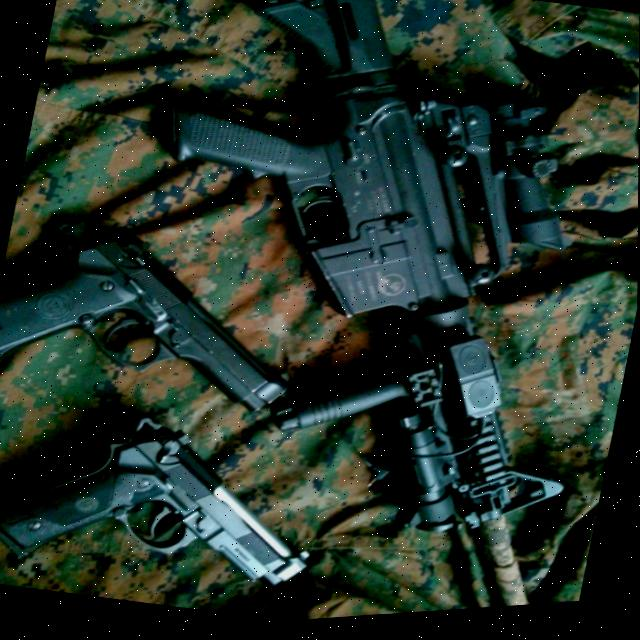firearm: (0, 0, 640, 640)
pistol: (0, 378, 338, 619), (0, 195, 320, 437)
